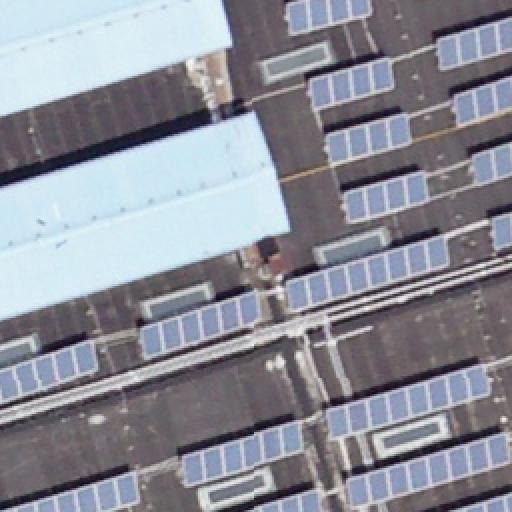solar-panel: (323, 363, 493, 445), (283, 231, 453, 313), (345, 432, 511, 512), (138, 286, 266, 362), (181, 418, 307, 490), (0, 339, 100, 405), (0, 468, 144, 512), (310, 55, 398, 113), (323, 113, 413, 167), (343, 170, 433, 222), (436, 15, 512, 73), (283, 0, 373, 36), (449, 75, 511, 125), (237, 484, 323, 512), (472, 140, 512, 188), (448, 492, 512, 512), (489, 210, 511, 254)
